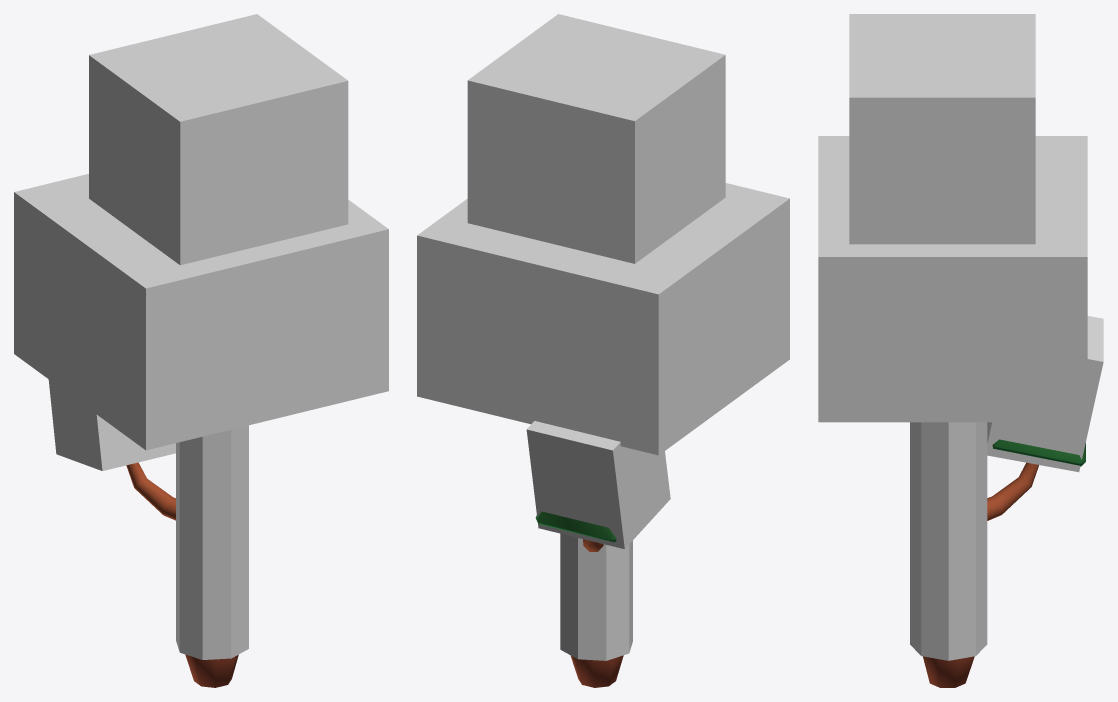
The model's file is tree_2_c.glb.
The picture shows the model from 3 angles, left to right: view 1: azimuth 30°, elevation 25°; view 2: azimuth 150°, elevation 25°; view 3: azimuth 270°, elevation 25°; orthographic projection. The views are drawn at different scales.
Parts seen in each view (by area): view 1: COL_BOX_01.005, COL_BOX_01.008, COL_CYL_00.005, COL_BOX_01.007, Tree_4_A_Color1; view 2: COL_BOX_01.005, COL_BOX_01.008, COL_BOX_01.007, COL_CYL_00.005, Tree_4_A_Color1; view 3: COL_BOX_01.005, COL_BOX_01.008, COL_CYL_00.005, COL_BOX_01.007, Tree_4_A_Color1.
Boxes of the visible parts, x1,y1,x2,y2 form: COL_BOX_01.005: (14,174,388,450); COL_BOX_01.008: (89,14,348,265); COL_CYL_00.005: (176,425,248,659); COL_BOX_01.007: (48,379,175,470); Tree_4_A_Color1: (126,462,238,687); COL_BOX_01.005: (417,183,789,455); COL_BOX_01.008: (467,14,725,263); COL_BOX_01.007: (526,421,670,549); COL_CYL_00.005: (560,533,632,660); Tree_4_A_Color1: (535,511,623,687); COL_BOX_01.005: (818,136,1087,422); COL_BOX_01.008: (849,14,1035,244); COL_CYL_00.005: (910,422,987,660); COL_BOX_01.007: (987,316,1103,472); Tree_4_A_Color1: (923,439,1085,687).
Size of the model in its own units: 1.76 by 4.27 by 1.75.
1 material, 1 textured.
